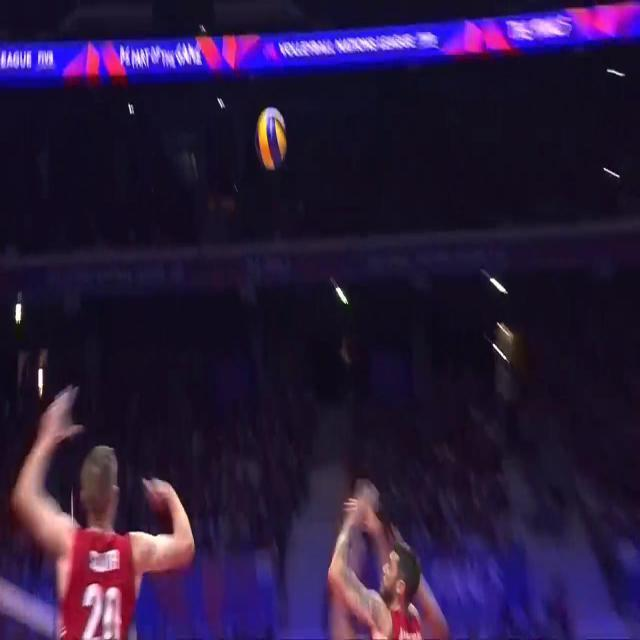volleyball: (254, 106, 286, 170)
